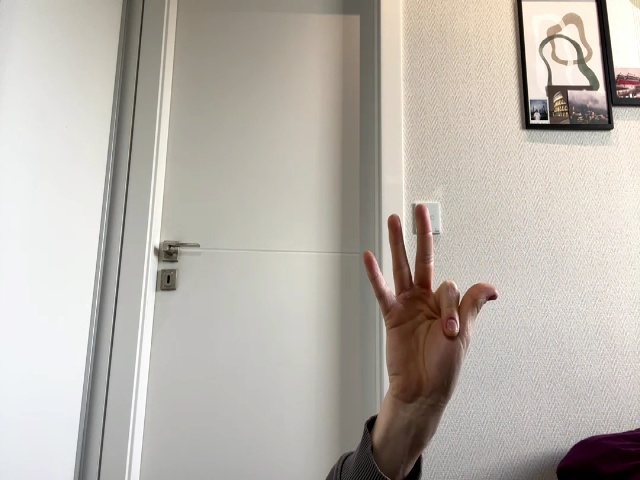F: (364, 205, 499, 388)
